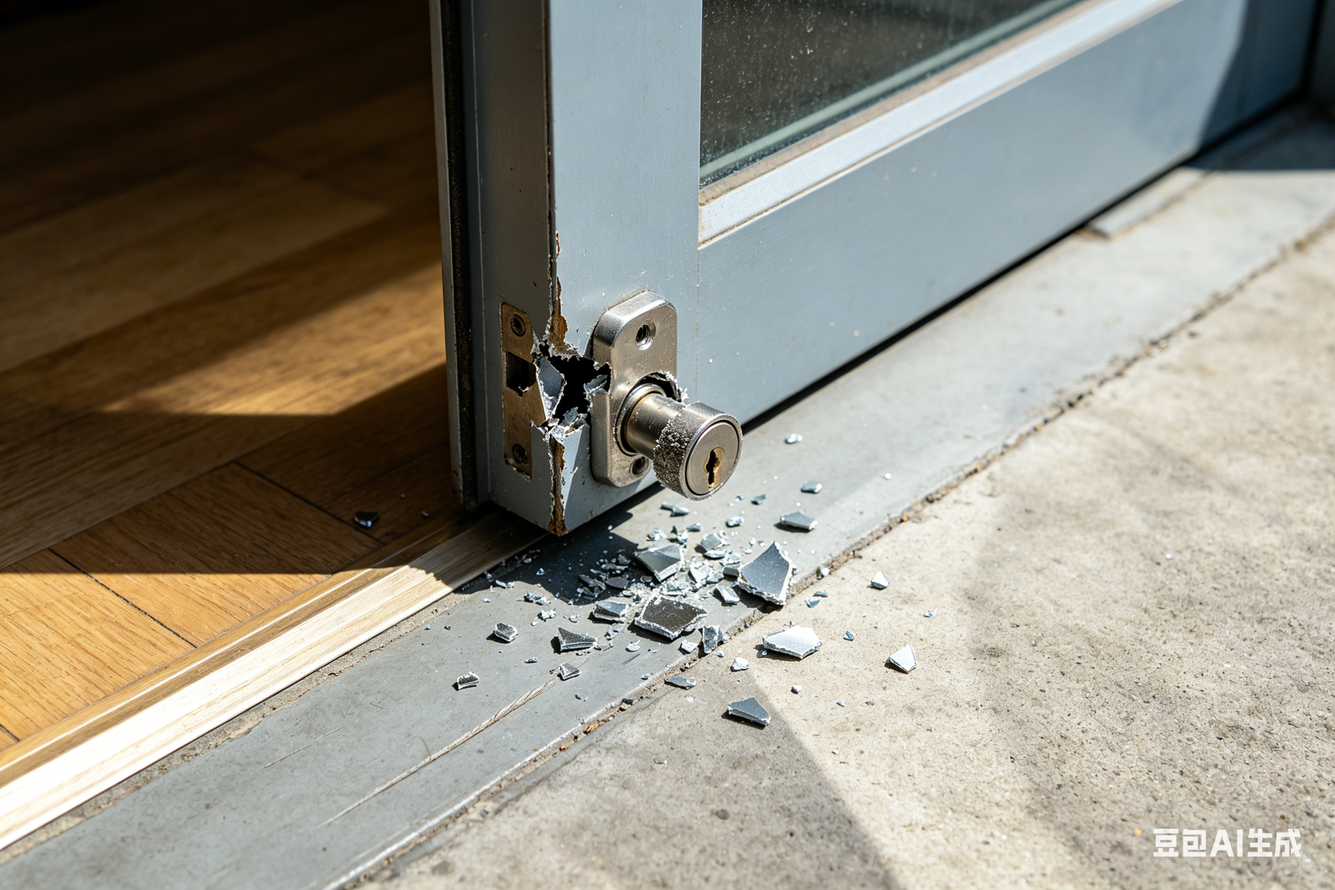BadLock: (490, 296, 758, 522)
